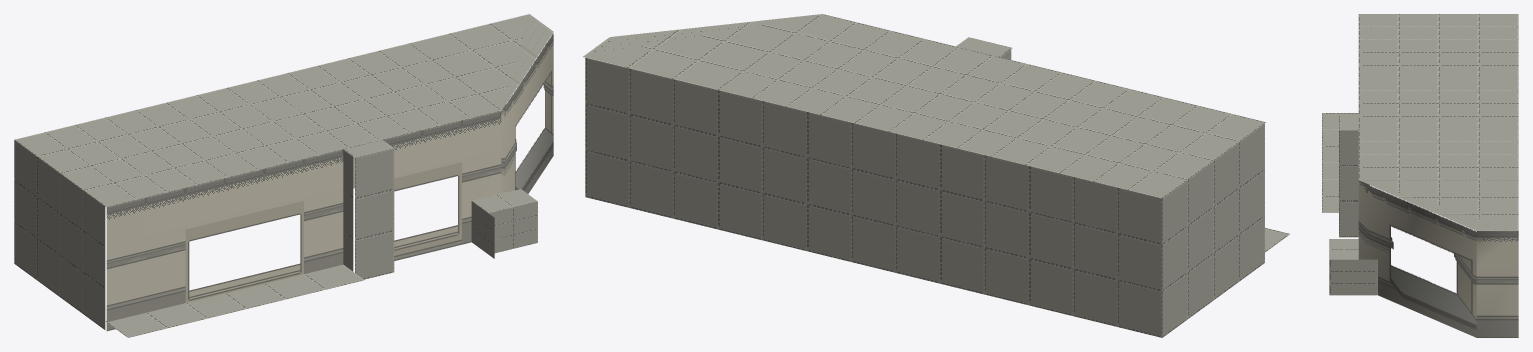
Rendered from Cafe_Town_Front.gltf.
3 renders of one model, left to right at view 1: azimuth 30°, elevation 25°; view 2: azimuth 150°, elevation 25°; view 3: azimuth 270°, elevation 25°, orthographic. The views are drawn at different scales.
Visible parts, largest first — view 1: front-hidden-col; view 2: front-hidden-col; view 3: front-hidden-col.
Part boxes in pixels (x1,y1,x2,y2): front-hidden-col: [14, 14, 553, 337]; front-hidden-col: [583, 14, 1289, 337]; front-hidden-col: [1322, 14, 1518, 337].
Bounding box in the file's own units: 26.12 × 6 × 10.13.
3 materials, 3 textured.
